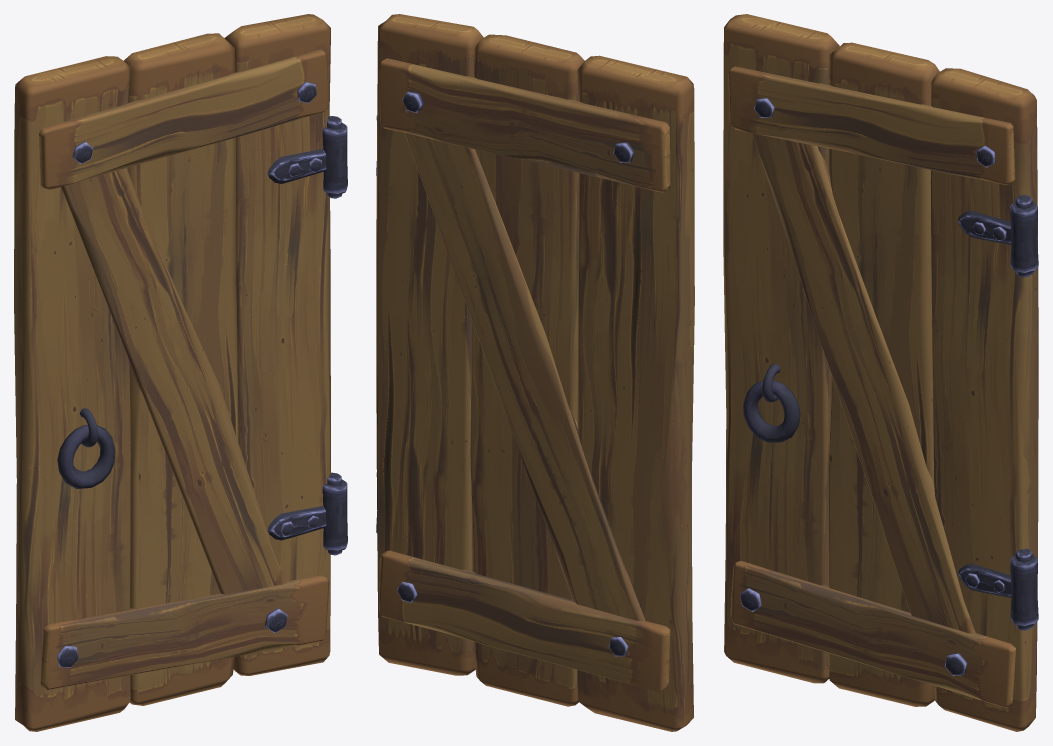
File: SM_MOD_window_shutter_town_02.fbx
3 views of the same model, side by side, from view 1: azimuth 30°, elevation 25°; view 2: azimuth 150°, elevation 25°; view 3: azimuth 330°, elevation 25° (orthographic).
Parts seen in each view (by area): view 1: SM_MOD_window_shutter_town_02_LOD0; view 2: SM_MOD_window_shutter_town_02_LOD0; view 3: SM_MOD_window_shutter_town_02_LOD0.
Part boxes in pixels (bbox=[...]): SM_MOD_window_shutter_town_02_LOD0: bbox=[14, 14, 347, 731]; SM_MOD_window_shutter_town_02_LOD0: bbox=[376, 14, 694, 731]; SM_MOD_window_shutter_town_02_LOD0: bbox=[723, 14, 1038, 731].
Size of what is drawn, in the model's own units: 56.08 by 109 by 11.58.
